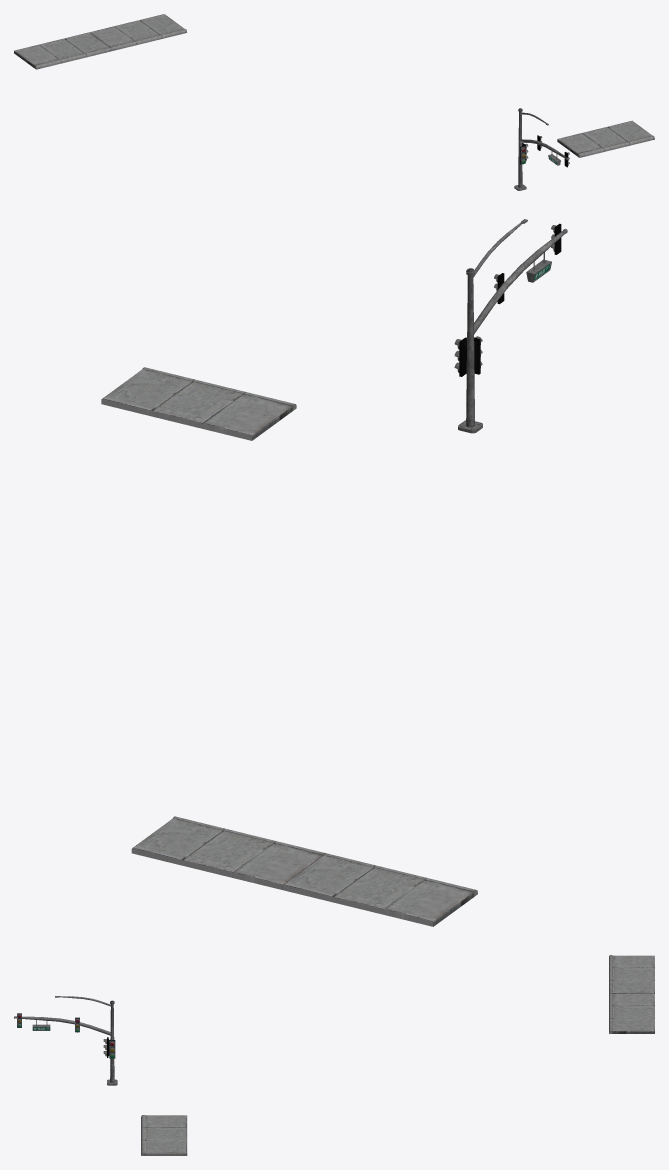
Rendered from uploads_files_4560233_CITY+PACK+1.fbx.
3 renders of one model, top to bottom at view 1: azimuth 30°, elevation 25°; view 2: azimuth 150°, elevation 25°; view 3: azimuth 270°, elevation 25°, orthographic. The views are drawn at different scales.
Parts seen in each view (by area): view 1: Plane.007, Plane.001, Plane.006, Plane.008, Plane.002, Plane.005, Cylinder; view 2: Plane.001, Plane.007, Plane.006, Cylinder; view 3: Plane.001, Plane.006, Plane.007, Cylinder.001.
Part boxes in pixels (x1,y1,x2,y2): Plane.007: (14,32,109,67); Plane.001: (557,120,652,156); Plane.006: (89,14,184,47); Plane.008: (34,47,111,69); Plane.002: (577,135,654,157); Plane.005: (110,29,186,50); Cylinder: (518,108,522,187); Plane.001: (101,369,293,440); Plane.007: (282,855,474,926); Plane.006: (131,818,322,889); Cylinder: (466,268,475,427); Plane.001: (144,1115,187,1155); Plane.006: (612,993,654,1033); Plane.007: (612,955,654,993); Cylinder.001: (14,1016,111,1035).
Size of the model in its own units: 3822 by 786 by 5231.
Materials: 54 (44 with a texture image).
